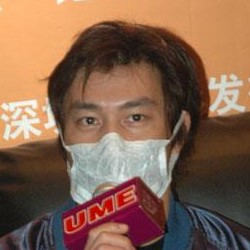mask: (54, 126, 176, 218)
